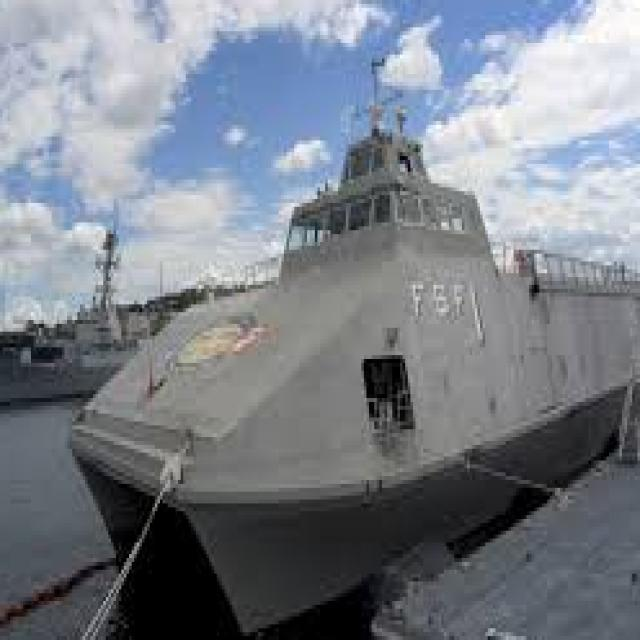navalvessels: (80, 117, 640, 617)
